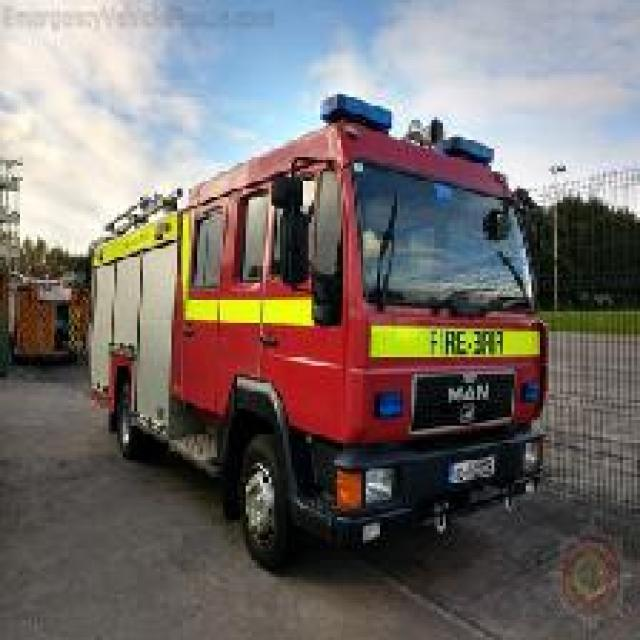Fire-truck: (83, 91, 551, 568)
